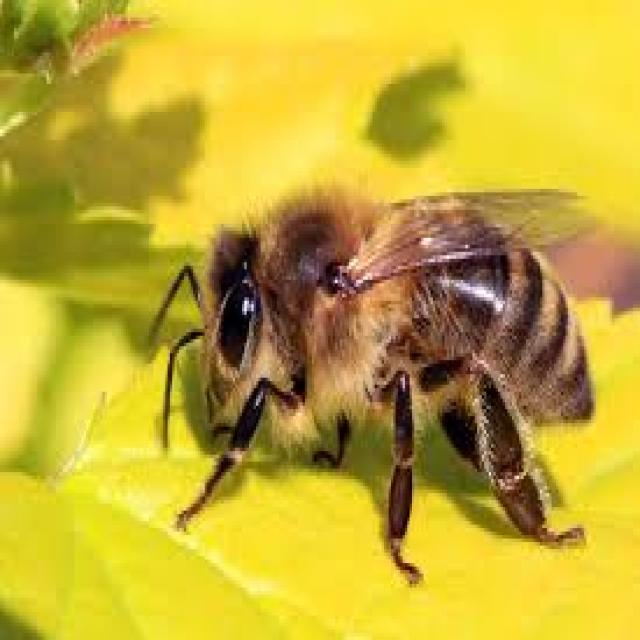Bees: (150, 186, 596, 595)
